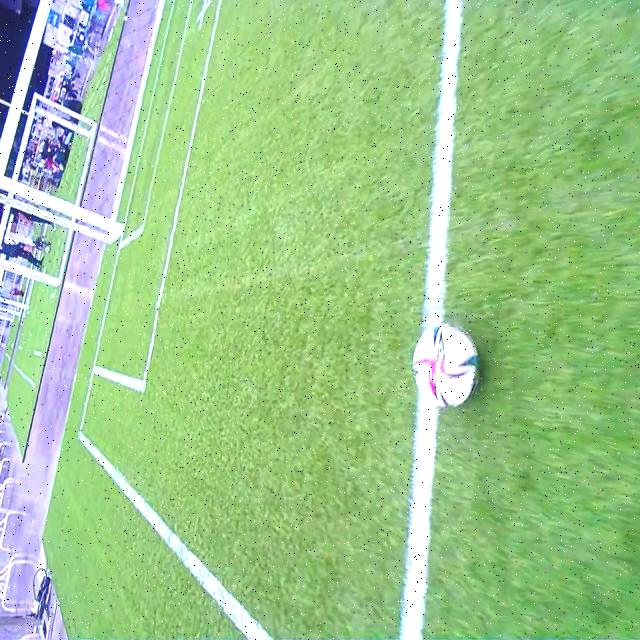ball: (411, 323, 477, 409)
